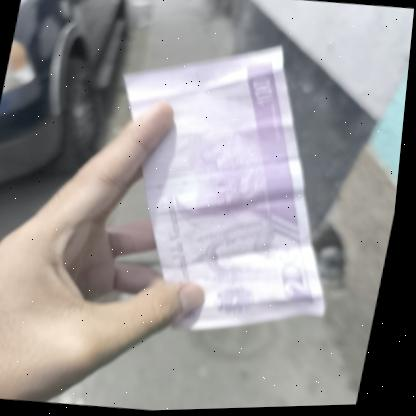one_hundred-back-vef: (77, 27, 380, 350)
